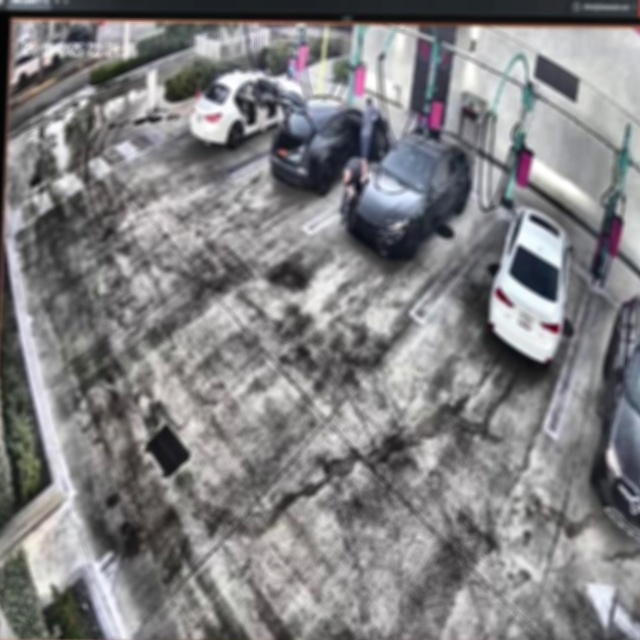Car: (341, 124, 477, 263), (481, 206, 571, 372), (268, 91, 391, 201), (187, 71, 307, 148)
